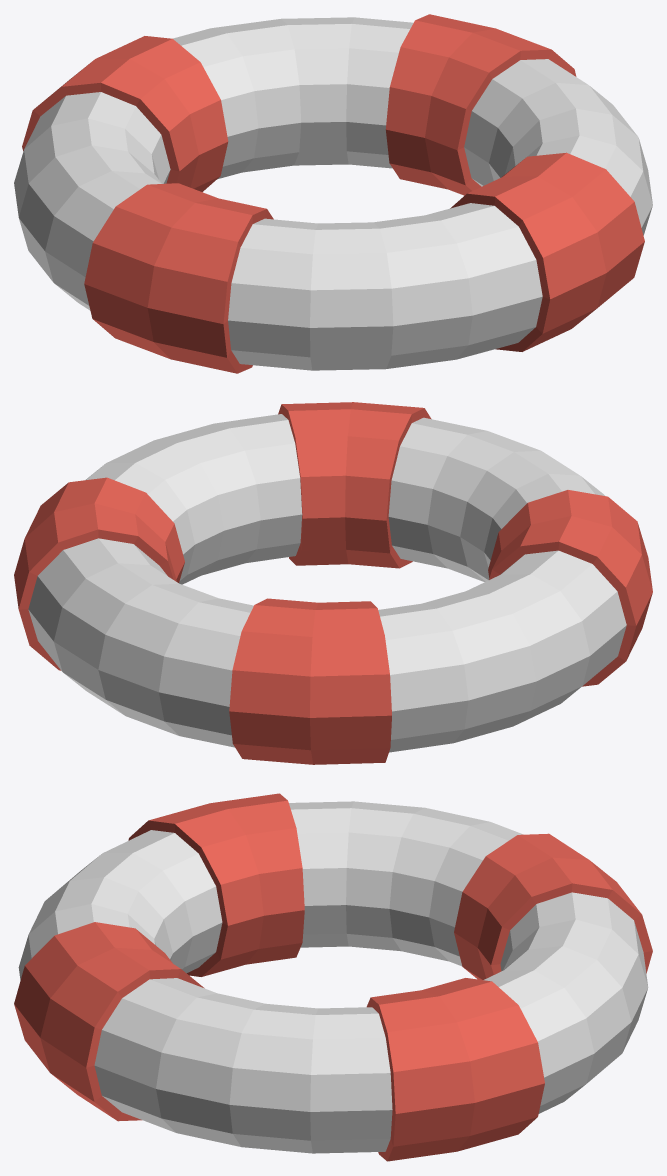
File: lifebuoy.glb
3 renders of one model, top to bottom at view 1: azimuth 30°, elevation 25°; view 2: azimuth 150°, elevation 25°; view 3: azimuth 270°, elevation 25°, orthographic. The views are drawn at different scales.
Parts seen in each view (by area): view 1: KoloRatunkowe1, KoloRatunkowe2; view 2: KoloRatunkowe1, KoloRatunkowe2; view 3: KoloRatunkowe1, KoloRatunkowe2.
Part boxes in pixels (bbox=[...]): KoloRatunkowe1: bbox=[14, 17, 652, 370]; KoloRatunkowe2: bbox=[22, 14, 644, 373]; KoloRatunkowe1: bbox=[28, 414, 626, 752]; KoloRatunkowe2: bbox=[14, 402, 652, 764]; KoloRatunkowe1: bbox=[18, 801, 648, 1153]; KoloRatunkowe2: bbox=[14, 793, 652, 1161].
Size of the model in its own units: 0.7895 by 0.2077 by 0.7895.
